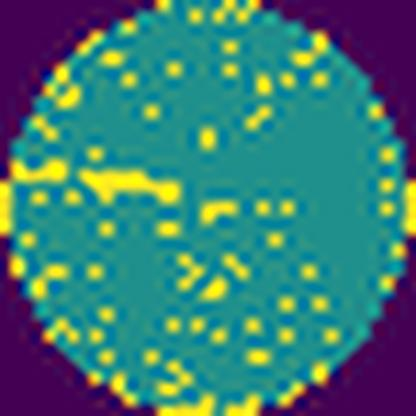Loc: (83, 169, 182, 206)
